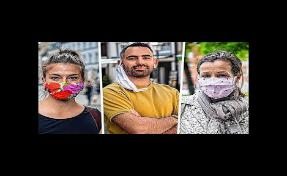with_mask: (200, 68, 233, 95), (47, 70, 82, 95)
without_mask: (127, 54, 156, 79)
